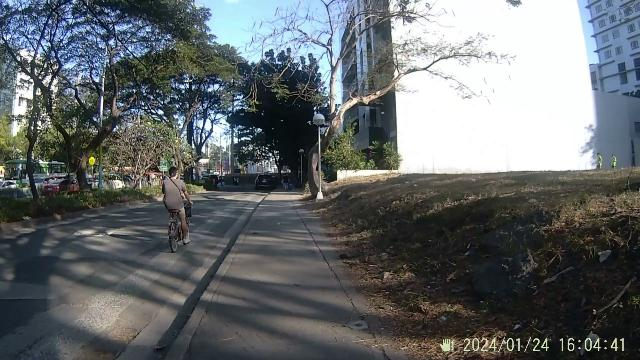lamp_post: (302, 109, 334, 202)
